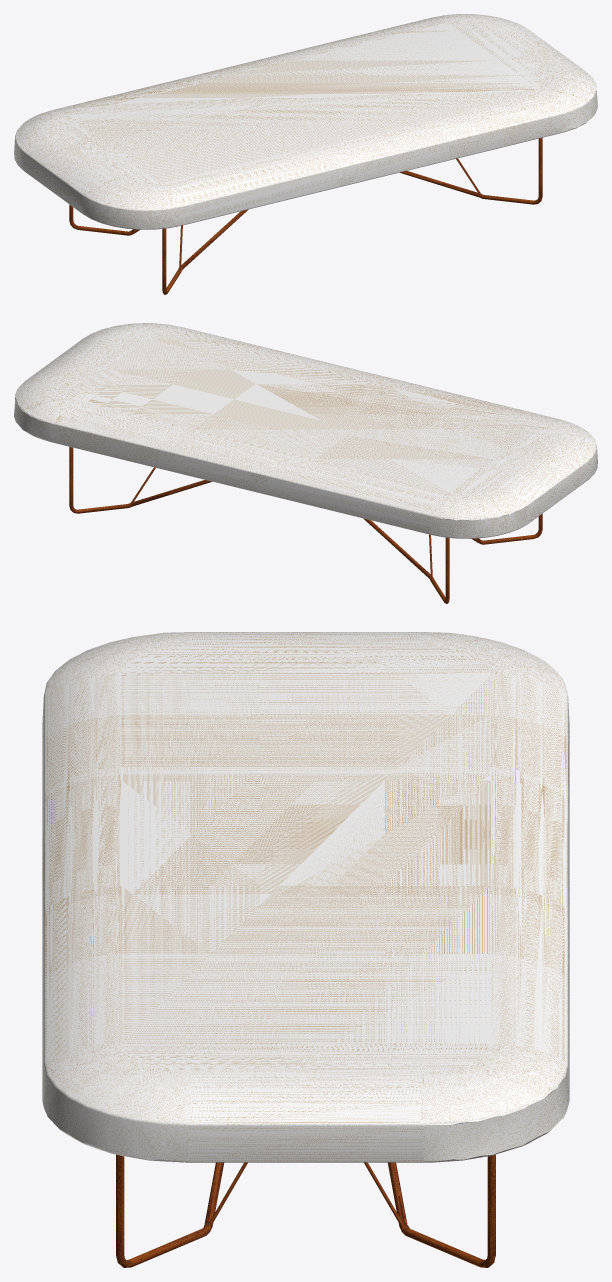
3 views of the same model, one above another, from view 1: azimuth 30°, elevation 25°; view 2: azimuth 150°, elevation 25°; view 3: azimuth 270°, elevation 25° (orthographic). The views are drawn at different scales.
Visible parts, largest first — view 1: mesh2_mesh2-geometry, mesh4_mesh4-geometry, mesh3_mesh3-geometry; view 2: mesh2_mesh2-geometry, mesh4_mesh4-geometry, mesh3_mesh3-geometry; view 3: mesh2_mesh2-geometry, mesh3_mesh3-geometry.
Boxes of the visible parts, x1,y1,x2,y2 form: mesh2_mesh2-geometry: (14,14,597,229); mesh4_mesh4-geometry: (69,204,248,294); mesh3_mesh3-geometry: (400,137,542,204); mesh2_mesh2-geometry: (14,323,597,538); mesh4_mesh4-geometry: (363,514,542,603); mesh3_mesh3-geometry: (69,447,211,513); mesh2_mesh2-geometry: (42,632,569,1162); mesh3_mesh3-geometry: (116,1154,495,1267).
Bounding box in the file's own units: 0.8942 × 0.1931 × 0.4039.
